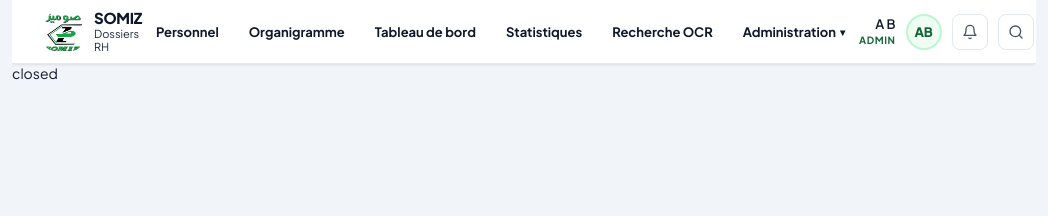
Test: Navbar (desktop) — menu « Administration » › un ADMIN ouvre le déroulant et voit ses quatre entrées
The width and height of the screenshot is (1048, 216).
Step 1. Click the button "Administration ▾" → (794, 32), box [729,16,859,46]
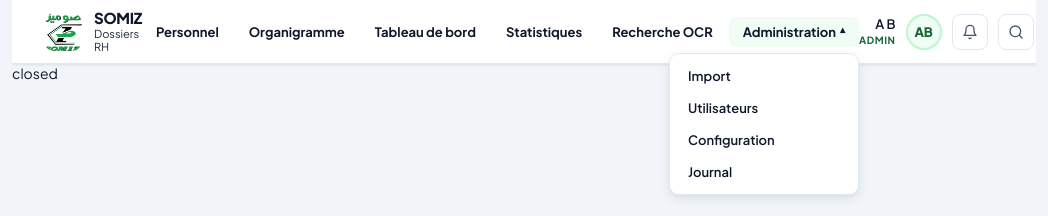
Result: the menu item "Import" is shown at [676,60,852,92]
Result: the menu item "Utilisateurs" is shown at [676,92,852,124]
Result: the menu item "Configuration" is shown at [676,124,852,156]
